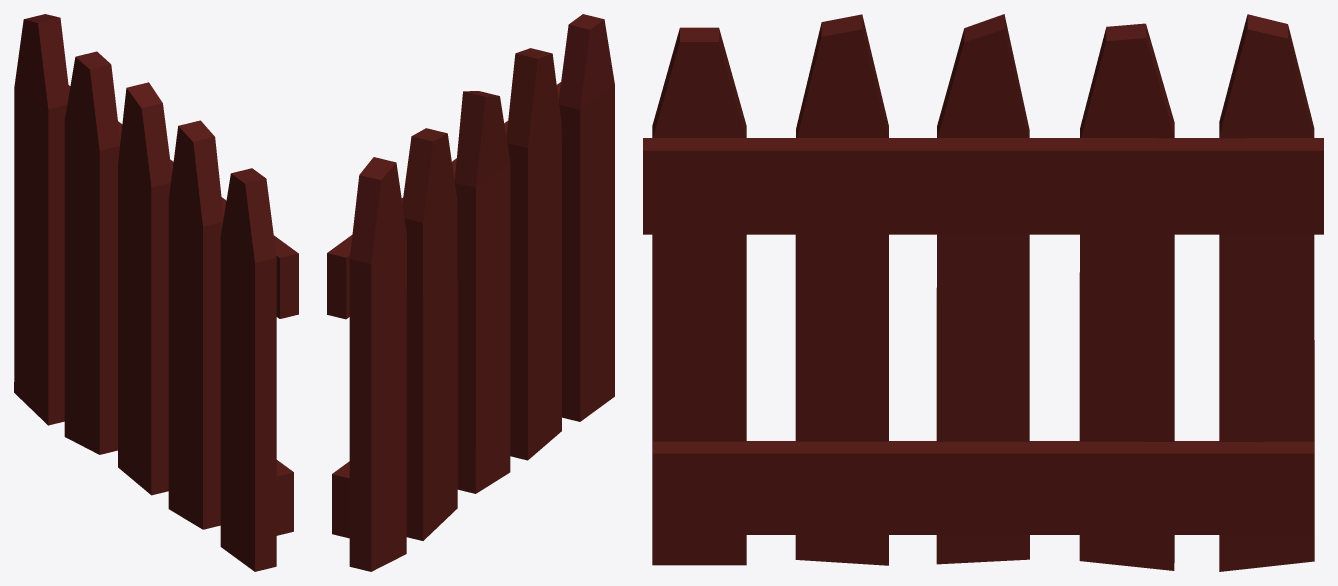
File: PicketFence.fbx
The picture shows the model from 3 angles, left to right: view 1: azimuth 30°, elevation 25°; view 2: azimuth 150°, elevation 25°; view 3: azimuth 270°, elevation 25°; orthographic projection. The views are drawn at different scales.
Parts seen in each view (by area): view 1: Cube, Cube.001, Cube.002; view 2: Cube, Cube.001, Cube.002; view 3: Cube, Cube.001, Cube.002.
Part boxes in pixels (x1=…): Cube: x1=14, y1=14, x2=276, y2=571; Cube.001: x1=68, y1=85, x2=298, y2=318; Cube.002: x1=276, y1=460, x2=293, y2=535; Cube: x1=349, y1=14, x2=614, y2=571; Cube.001: x1=327, y1=82, x2=560, y2=319; Cube.002: x1=332, y1=461, x2=349, y2=538; Cube: x1=652, y1=14, x2=1314, y2=571; Cube.001: x1=643, y1=138, x2=1323, y2=234; Cube.002: x1=652, y1=441, x2=1314, y2=534.
Bounding box in the file's own units: 38.27 × 353 × 401.
